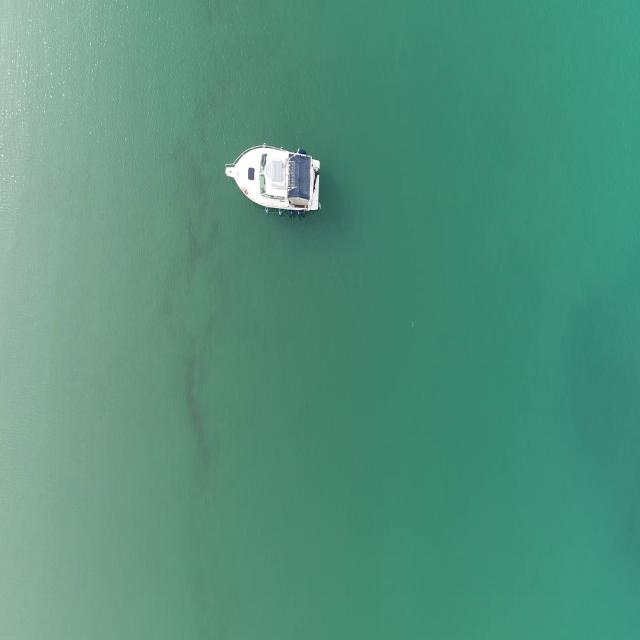boat: (224, 142, 322, 220)
